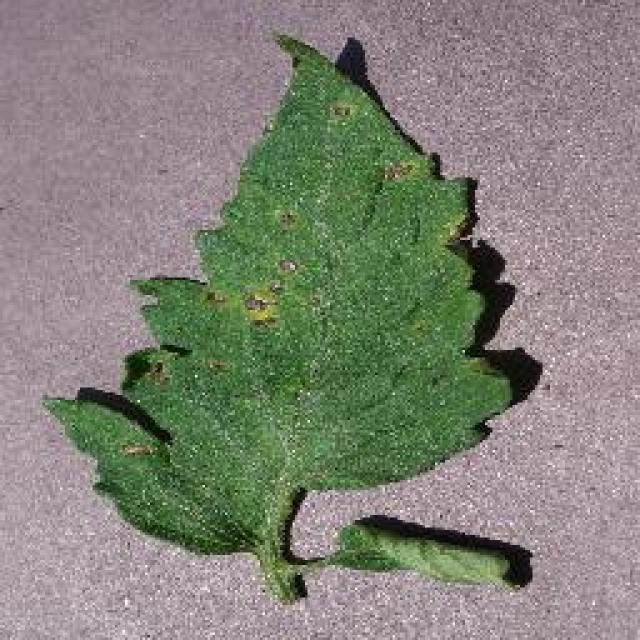Tomato Septoria spot leaf: (31, 23, 516, 557)
